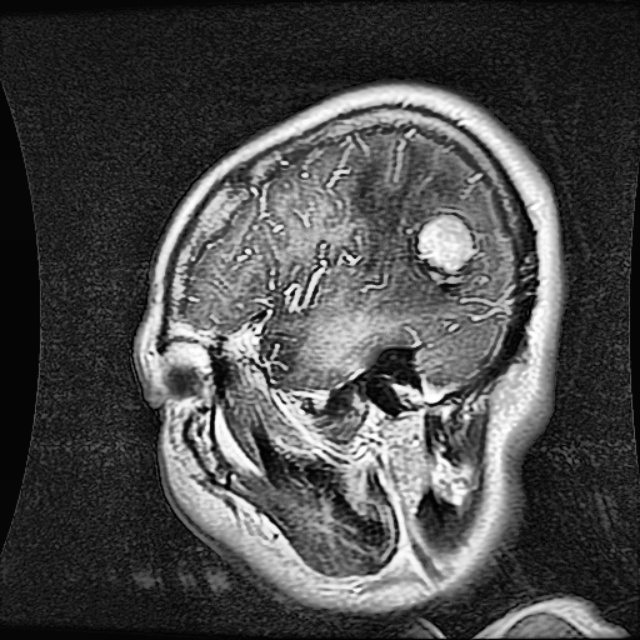Meningioma: (414, 215, 474, 273)
